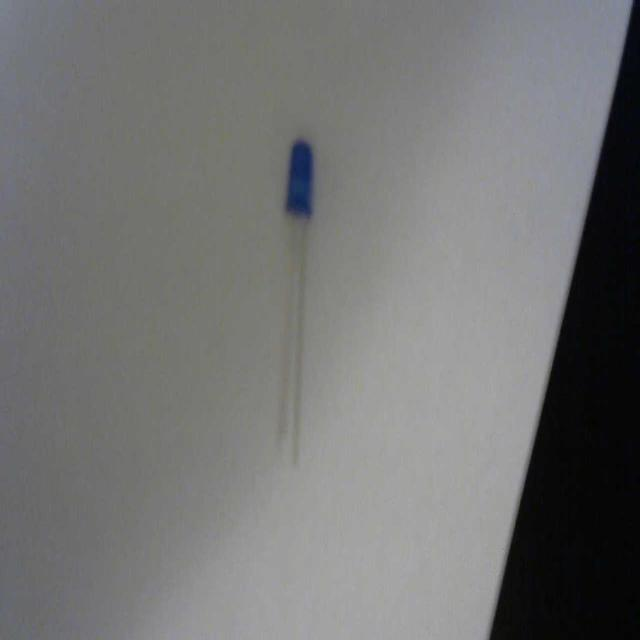blue_led: (285, 137, 314, 218)
